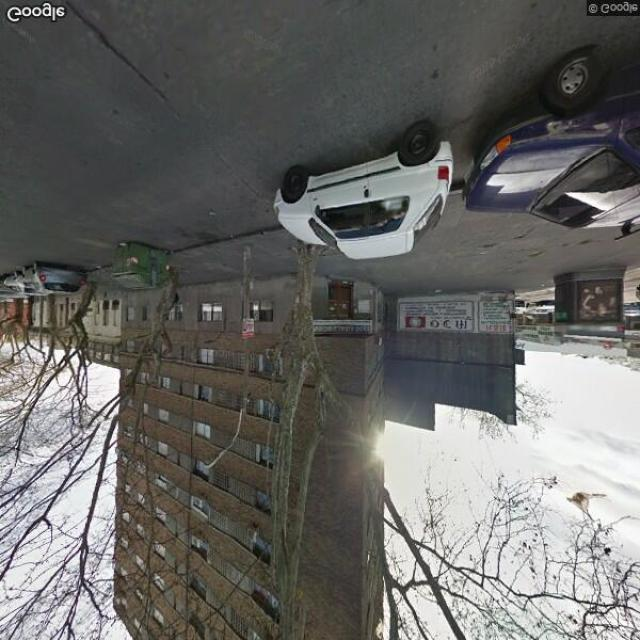garbage container: (104, 234, 184, 298)
